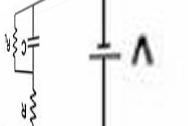Battery: (84, 36, 118, 68)
